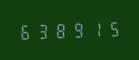eight: (52, 20, 68, 40)
five: (103, 18, 119, 38)
nine: (69, 20, 85, 39)
one: (86, 19, 102, 38)
six: (17, 21, 33, 41)
three: (34, 21, 50, 40)
